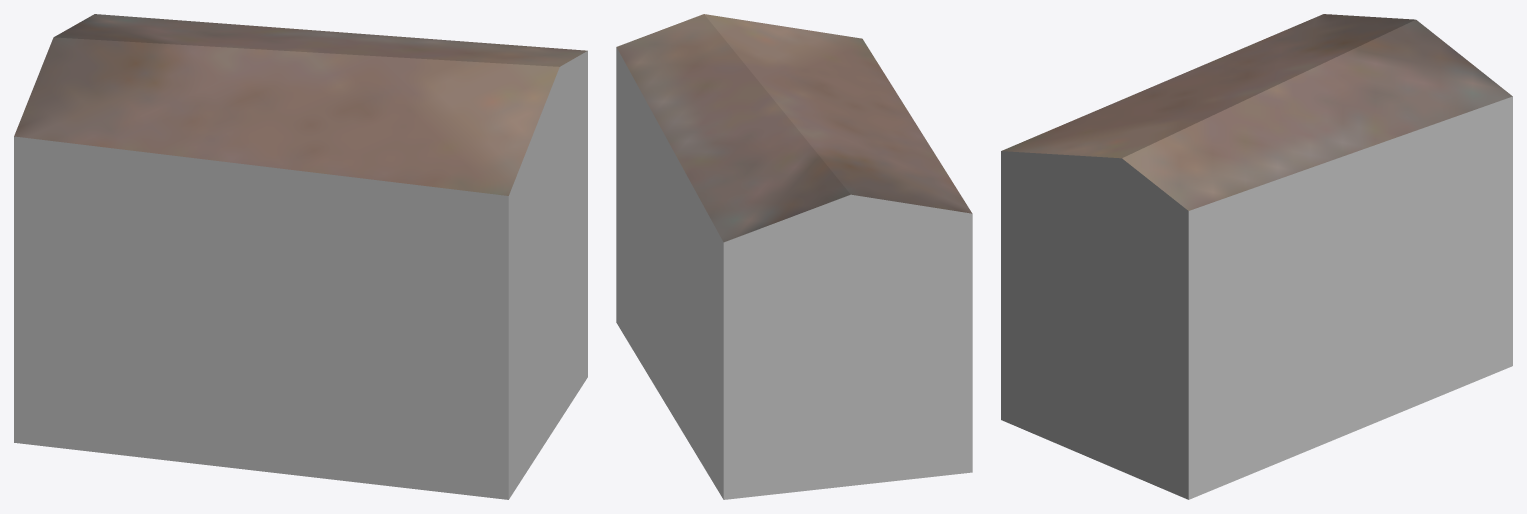
File: DEBW_0010007Txcx.gltf
3 views of the same model, side by side, from view 1: azimuth 30°, elevation 25°; view 2: azimuth 150°, elevation 25°; view 3: azimuth 270°, elevation 25° (orthographic). The views are drawn at different scales.
Visible parts, largest first — view 1: Z_UP; view 2: Z_UP; view 3: Z_UP.
Part boxes in pixels (bbox=[...]): Z_UP: bbox=[14, 14, 587, 499]; Z_UP: bbox=[616, 14, 972, 499]; Z_UP: bbox=[1001, 14, 1512, 499].
Size of the model in its own units: 6.18 by 4.2 by 6.22.
Materials: 2 (1 with a texture image).
